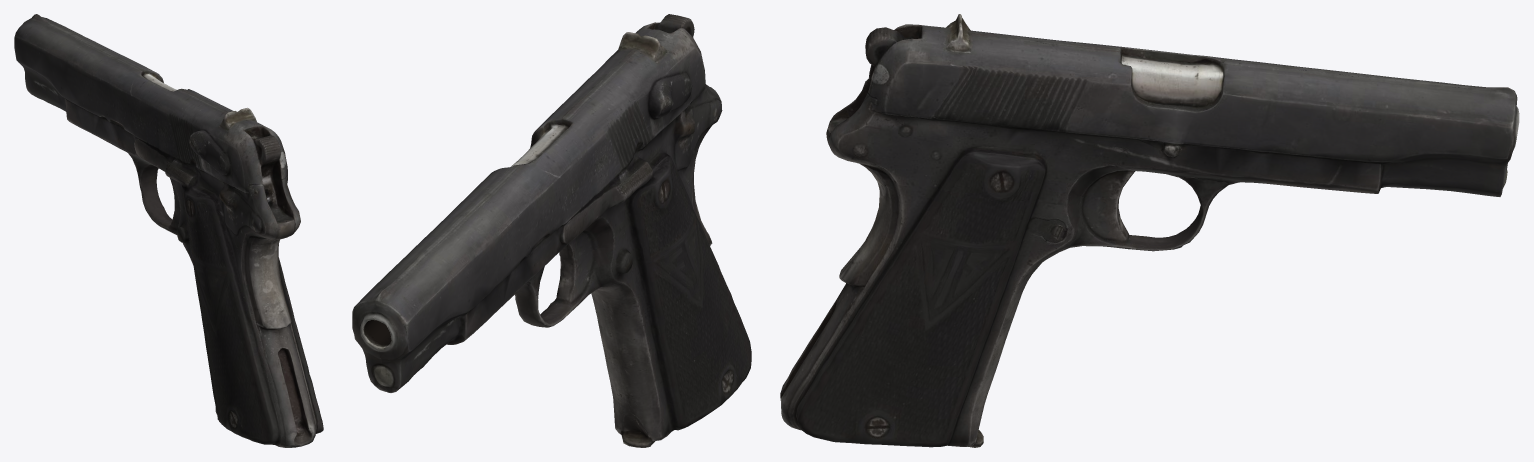
The model's file is pistol.glb.
3 views of the same model, side by side, from view 1: azimuth 30°, elevation 25°; view 2: azimuth 150°, elevation 25°; view 3: azimuth 270°, elevation 25° (orthographic). The views are drawn at different scales.
Parts seen in each view (by area): view 1: Object_2; view 2: Object_2; view 3: Object_2.
Part boxes in pixels (x1=…): Object_2: x1=14, y1=14, x2=323, y2=447; Object_2: x1=352, y1=14, x2=751, y2=447; Object_2: x1=780, y1=14, x2=1519, y2=447.
Bounding box in the file's own units: 0.1529 × 0.6309 × 1.
1 material, 1 textured.
